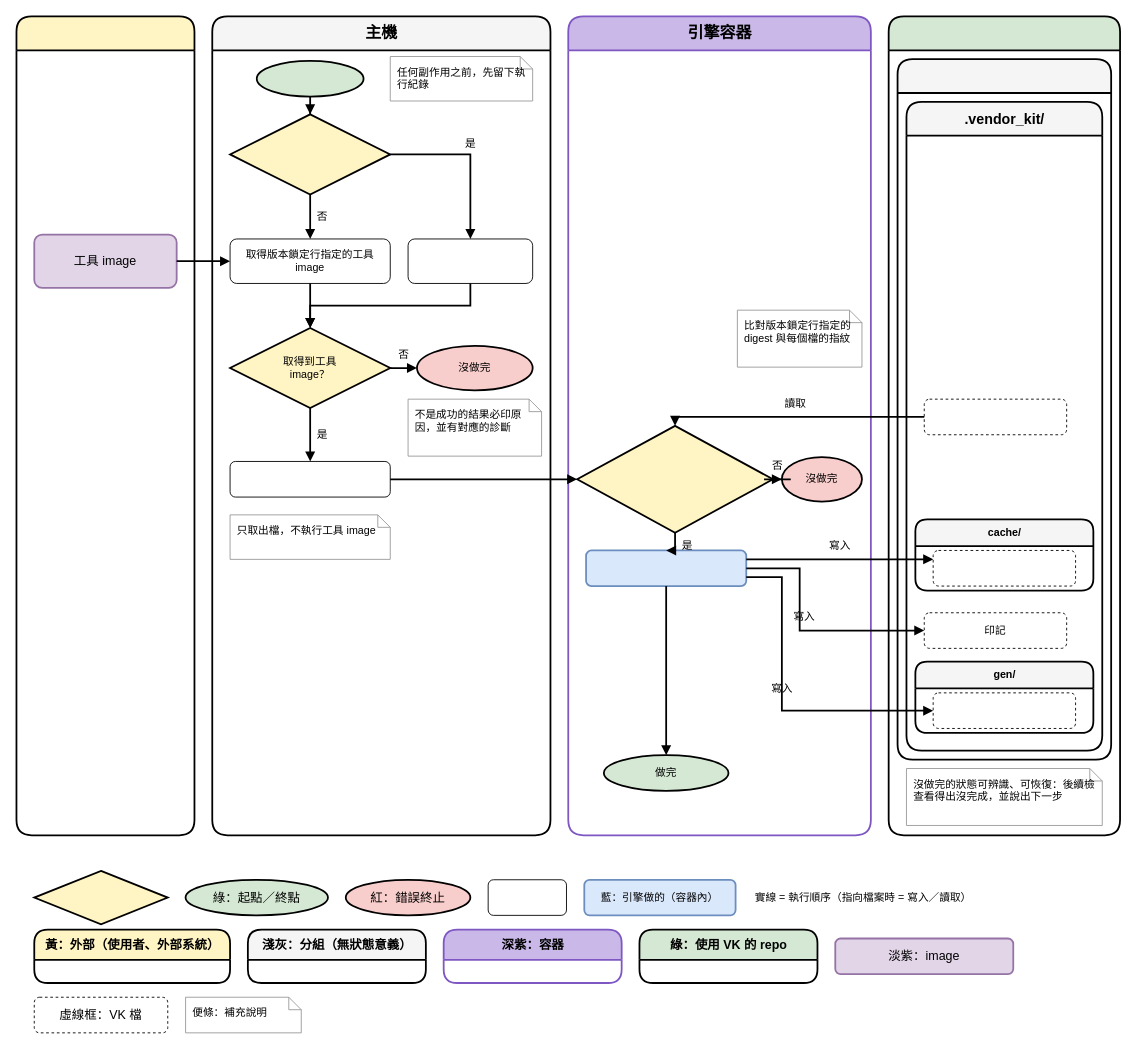
Image size: 1136x1048. Some labels were removed from this diagram. The shapes that lost their labels are listed below. From the top down, each one's box as (x1, y1, x2, y2) in pixels, then its label:
(255, 60, 364, 97): 開始取件
(229, 113, 391, 195): 用帶進去的 image？
(407, 238, 533, 283): 載入帶進去的工具 image
(15, 15, 195, 836): registry
(923, 398, 1067, 435): version.toml
(896, 58, 1112, 760): 安裝目錄
(887, 15, 1121, 836): 導入的 repo
(229, 461, 390, 497): 取出工具內容
(576, 425, 773, 533): 符合鎖定 digest，且與出貨逐檔相同？
(585, 549, 747, 587): 寫入已確認一致的工具內容
(932, 550, 1076, 586): 工具內容
(932, 692, 1076, 728): just 載入的檔
(33, 870, 168, 925): 黃：判斷
(487, 879, 566, 915): 白：步驟
